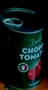tomatoes: (1, 8, 43, 90)
